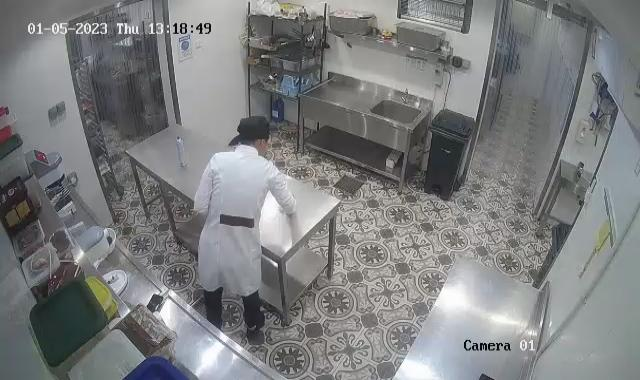no_hairnet: (237, 113, 270, 148)
